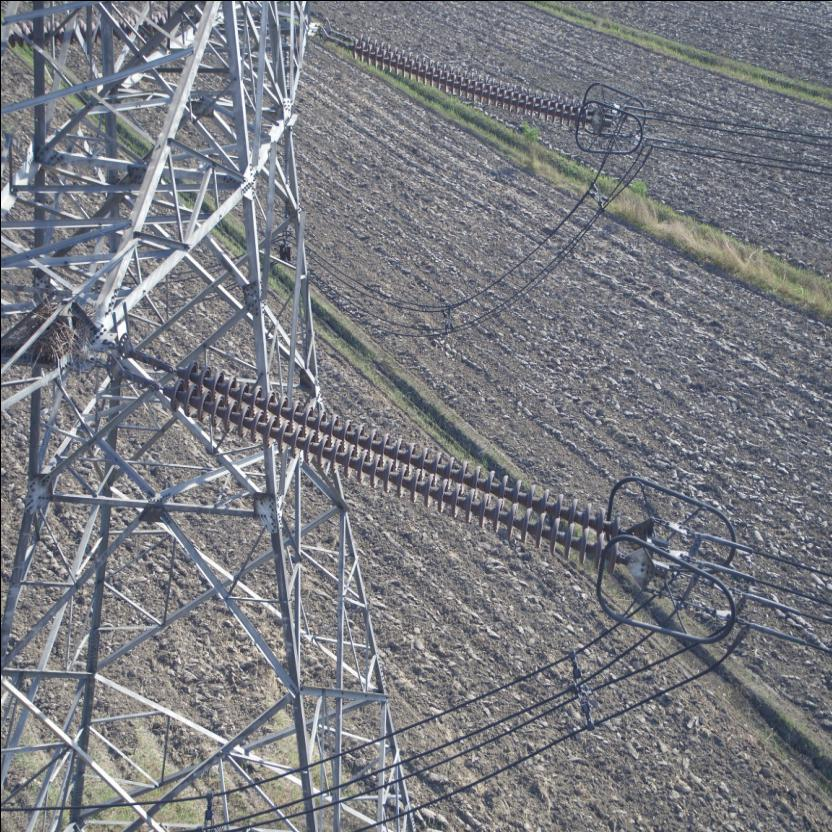insulator: (141, 352, 635, 574), (328, 28, 596, 127)
